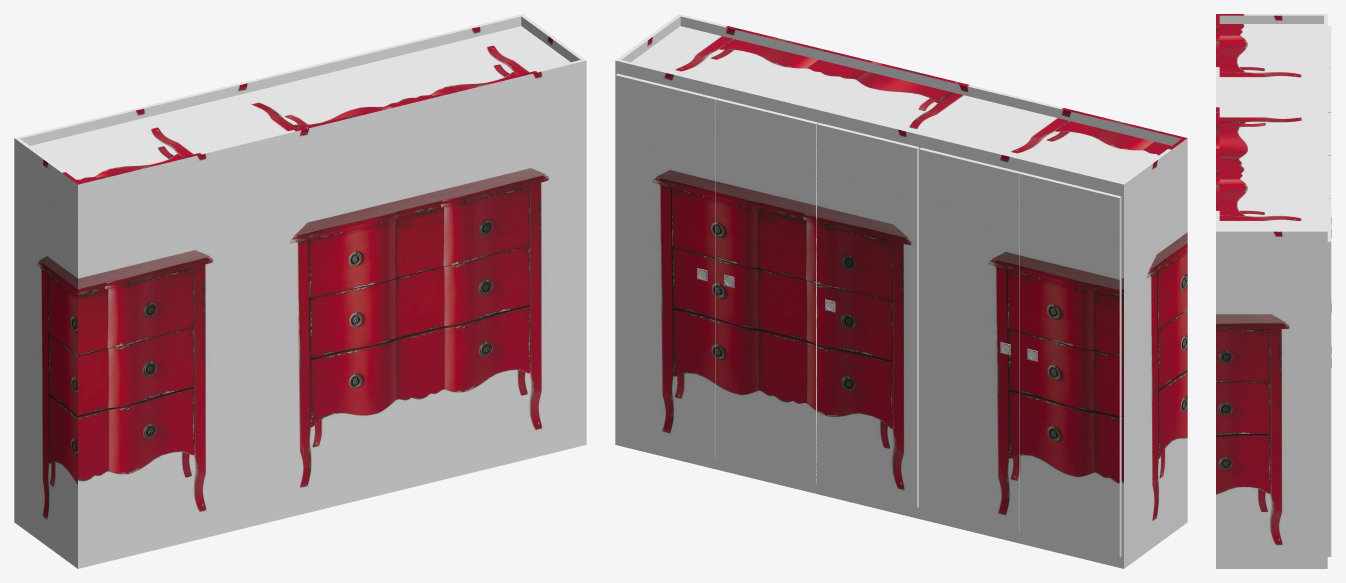
3 views of the same model, side by side, from view 1: azimuth 30°, elevation 25°; view 2: azimuth 150°, elevation 25°; view 3: azimuth 270°, elevation 25° (orthographic). The views are drawn at different scales.
Visible parts, largest first — view 1: mesh1_mesh1-geometry; view 2: mesh1_mesh1-geometry; view 3: mesh1_mesh1-geometry.
Boxes of the visible parts, x1,y1,x2,y2 form: mesh1_mesh1-geometry: [14, 14, 586, 568]; mesh1_mesh1-geometry: [615, 14, 1187, 568]; mesh1_mesh1-geometry: [1216, 14, 1331, 568].
Size of the model in its own units: 0.7976 by 0.5759 by 0.1794.
